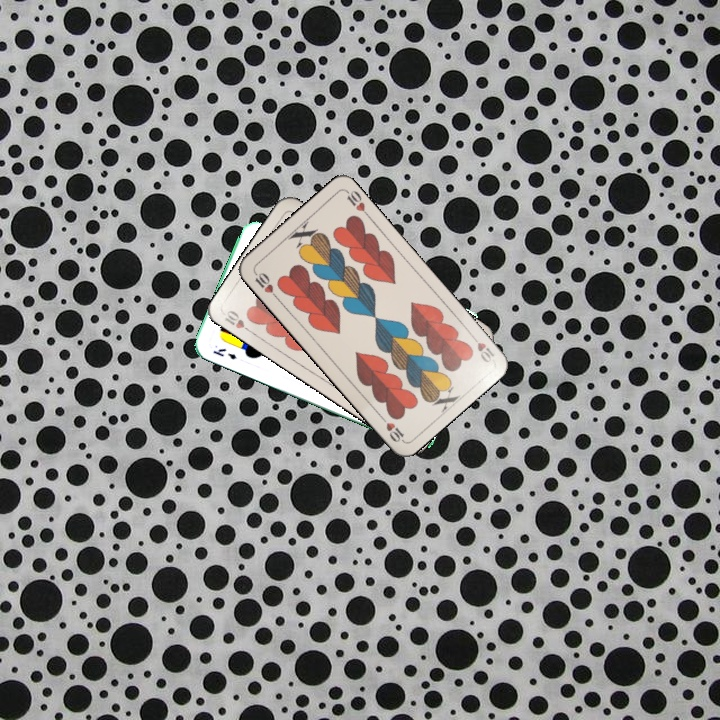EK: (209, 344, 239, 362)
H10: (220, 306, 256, 337), (466, 330, 497, 365), (250, 268, 280, 301)
